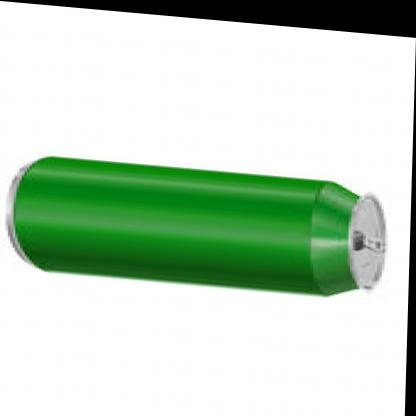trash: (8, 157, 384, 294)
